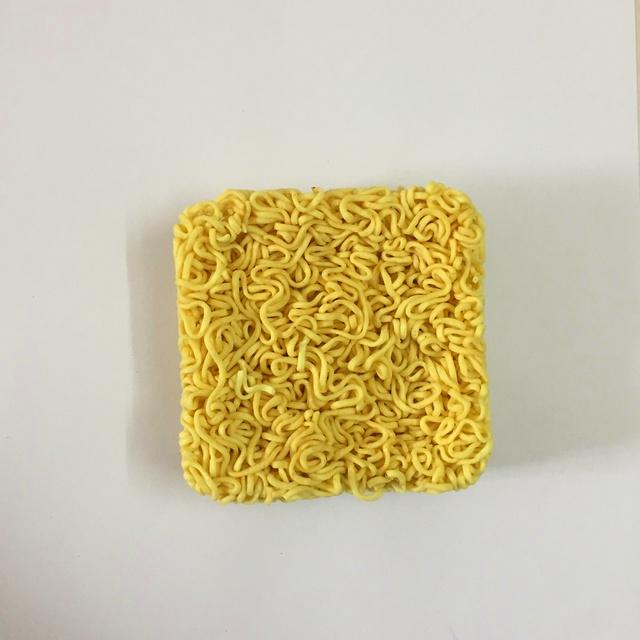noodles: (162, 176, 501, 512)
